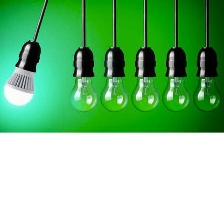light_bulb: (0, 54, 41, 108), (65, 70, 100, 115), (129, 72, 162, 114), (99, 72, 131, 113), (190, 72, 222, 113), (160, 72, 191, 114)
